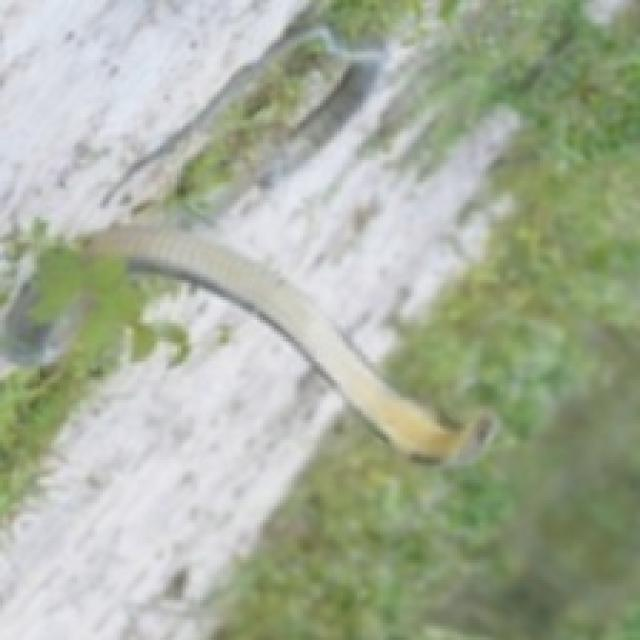king cobra: (83, 226, 494, 460)
